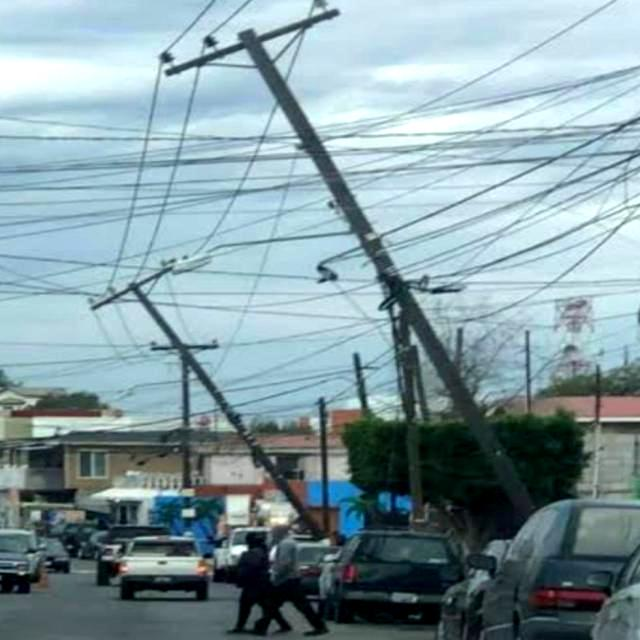Broken Pole: (155, 1, 544, 520), (74, 256, 331, 542)
